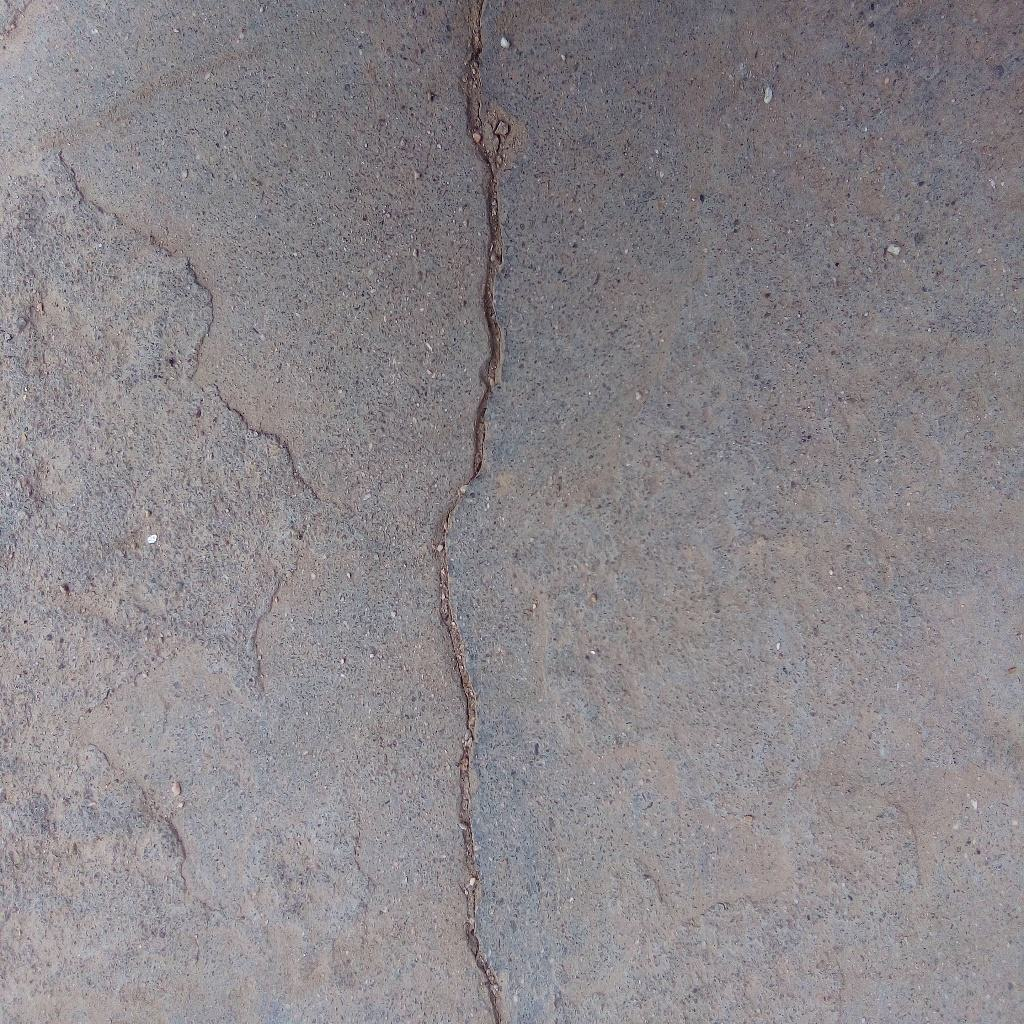Crack: (428, 1, 504, 1024)
